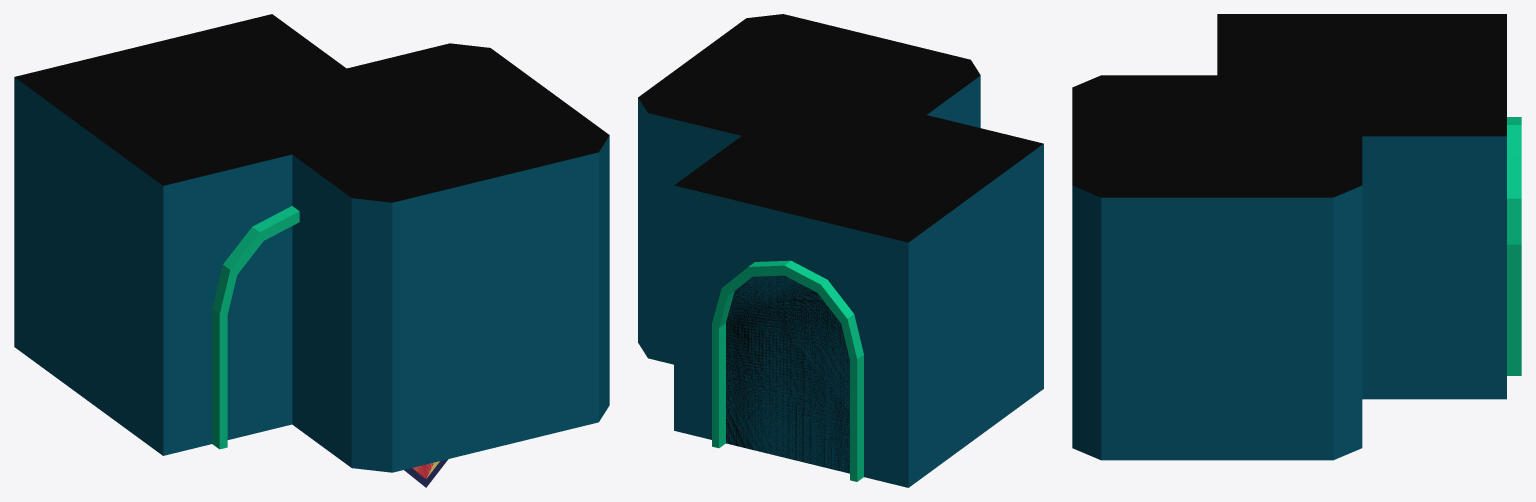
3 views of the same model, side by side, from view 1: azimuth 30°, elevation 25°; view 2: azimuth 150°, elevation 25°; view 3: azimuth 270°, elevation 25° (orthographic). The views are drawn at different scales.
Visible parts, largest first — view 1: Wall_Large_Pillar_Green, Wall_Large_Corner_Green, Wall_Large_Doorway_Green, Wall_Large_Exit_Green, Wall_Large_Block_Green, Wall_Medium_Block_Green, Wall_Medium_Pillar_Green, Wall_Medium_Corner_Green, Wall_Small_Block_Green, Wall_Small_Pillar_Green, Wall_Small_Corner_Green; view 2: Wall_Large_Corner_Green, Wall_Large_Exit_Green, Wall_Large_Doorway_Green, Wall_Large_Pillar_Green, Wall_Large_Block_Green, Wall_Medium_Pillar_Green, Wall_Medium_Block_Green, Wall_Medium_Corner_Green, Wall_Small_Pillar_Green; view 3: Wall_Large_Pillar_Green, Wall_Large_Corner_Green, Wall_Large_Exit_Green, Wall_Large_Block_Green, Wall_Medium_Pillar_Green, Wall_Medium_Block_Green, Wall_Large_Doorway_Green, Wall_Small_Block_Green, Wall_Small_Corner_Green, Wall_Medium_Corner_Green.
Boxes of the visible parts, <box> form: Wall_Large_Pillar_Green: <box>239,43,609,472</box>; Wall_Large_Corner_Green: <box>14,14,389,455</box>; Wall_Large_Doorway_Green: <box>14,14,389,455</box>; Wall_Large_Exit_Green: <box>14,15,379,455</box>; Wall_Large_Block_Green: <box>16,14,413,447</box>; Wall_Medium_Block_Green: <box>178,58,417,430</box>; Wall_Medium_Pillar_Green: <box>314,77,527,168</box>; Wall_Medium_Corner_Green: <box>178,58,401,429</box>; Wall_Small_Block_Green: <box>259,84,420,146</box>; Wall_Small_Pillar_Green: <box>365,95,485,150</box>; Wall_Small_Corner_Green: <box>260,84,405,144</box>; Wall_Large_Corner_Green: <box>674,109,1043,487</box>; Wall_Large_Exit_Green: <box>675,87,1043,487</box>; Wall_Large_Doorway_Green: <box>674,87,956,487</box>; Wall_Large_Pillar_Green: <box>638,14,980,364</box>; Wall_Large_Block_Green: <box>675,100,1042,241</box>; Wall_Medium_Pillar_Green: <box>712,45,906,127</box>; Wall_Medium_Block_Green: <box>730,107,945,179</box>; Wall_Medium_Corner_Green: <box>731,117,944,179</box>; Wall_Small_Pillar_Green: <box>749,64,863,106</box>; Wall_Large_Pillar_Green: <box>1072,75,1362,460</box>; Wall_Large_Corner_Green: <box>1217,14,1506,399</box>; Wall_Large_Exit_Green: <box>1219,14,1506,399</box>; Wall_Large_Block_Green: <box>1217,14,1506,399</box>; Wall_Medium_Pillar_Green: <box>1130,99,1304,173</box>; Wall_Medium_Block_Green: <box>1217,64,1391,399</box>; Wall_Large_Doorway_Green: <box>1217,14,1521,399</box>; Wall_Small_Block_Green: <box>1217,87,1333,136</box>; Wall_Small_Corner_Green: <box>1217,87,1333,136</box>; Wall_Medium_Corner_Green: <box>1217,63,1391,398</box>.
Size of the model in its own units: 7.5 by 7.75 by 6.69.
Materials: 1 (1 with a texture image).
